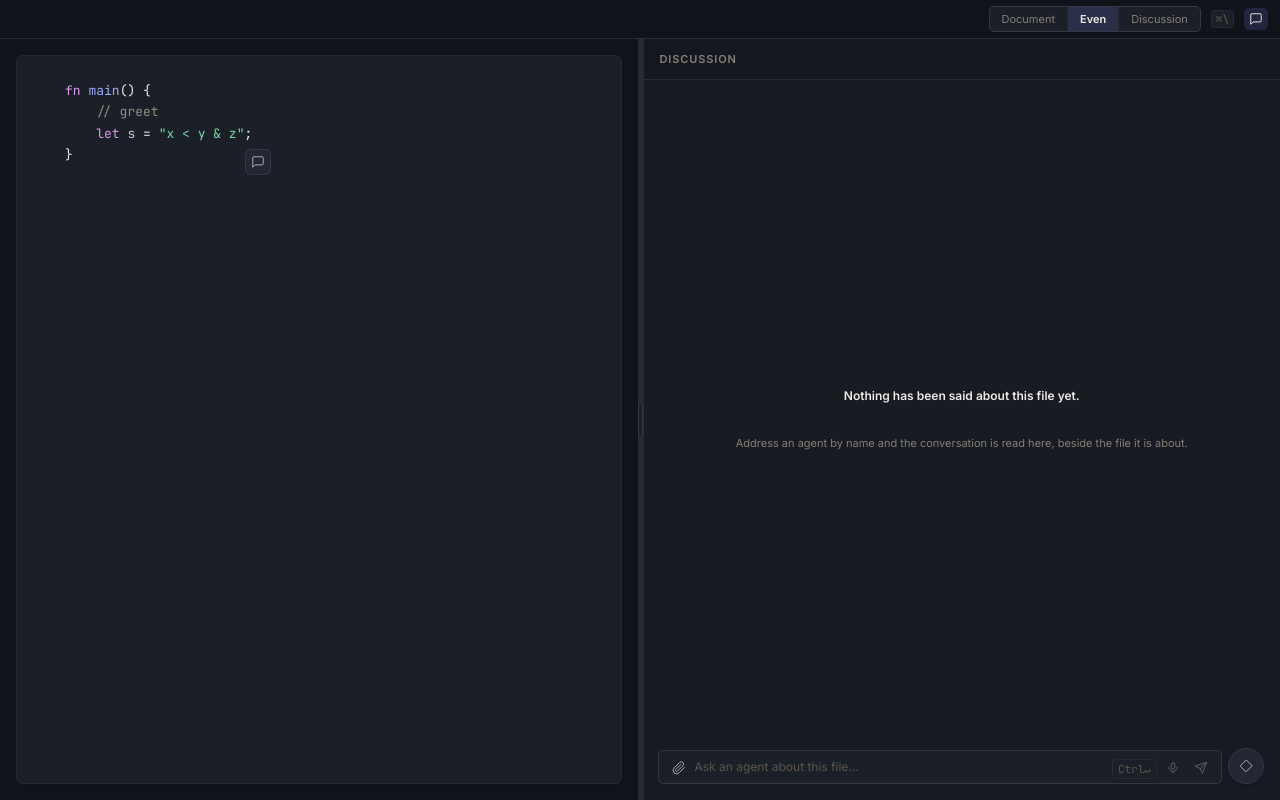
Test: EDT-FR-61, ESH-FR-CXAI, CMT-FR-02, CMT-FR-03: the discussion column beside the source page › CMT-FR-05, DDS-FR-QMBC: offers the affordance over a selection in the source surface
This screenshot has width=1280, height=800.
Expected: the text "fn" is shown, [65,82,81,99]
Click the button named "Comment on selection" at (258, 162), box [245,149,271,175]
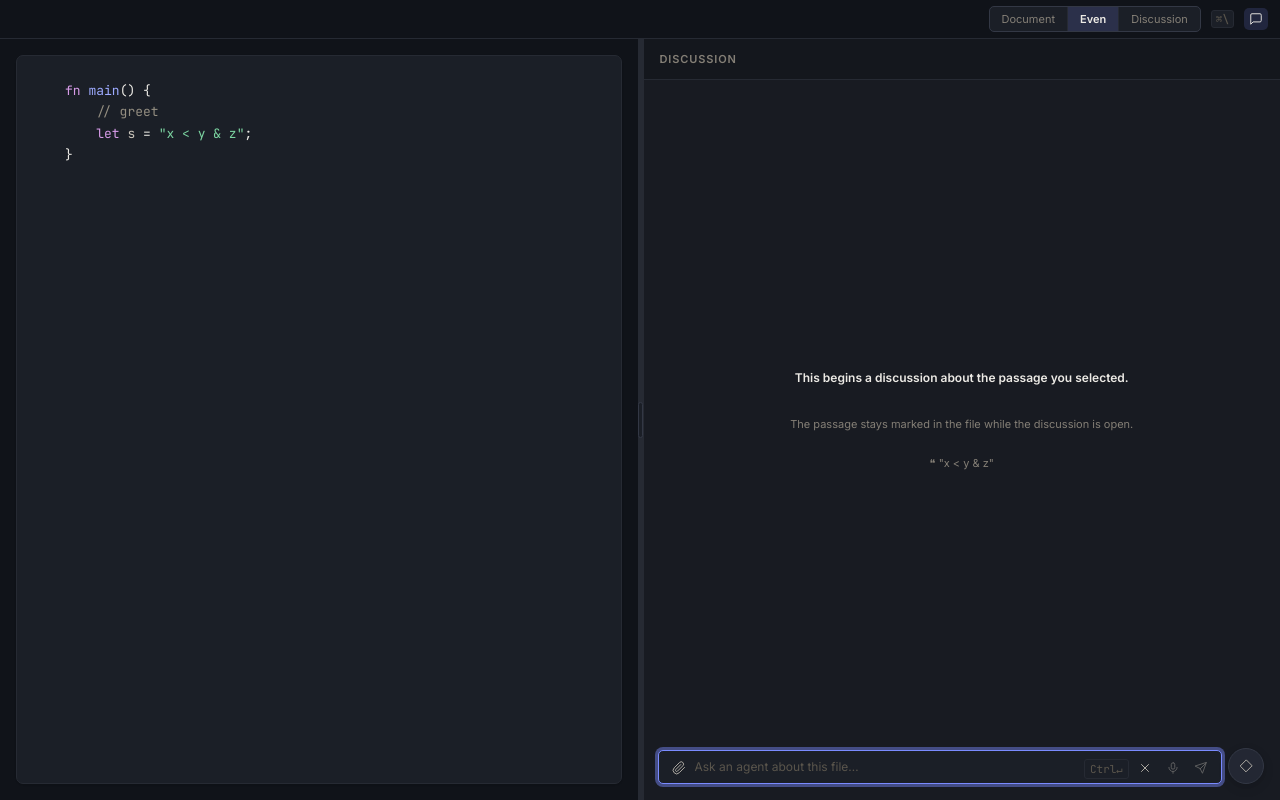
Expected: the text with test id "discussion-opening-fragment" shows "\"x < y & z\"", [939,456,994,470]
